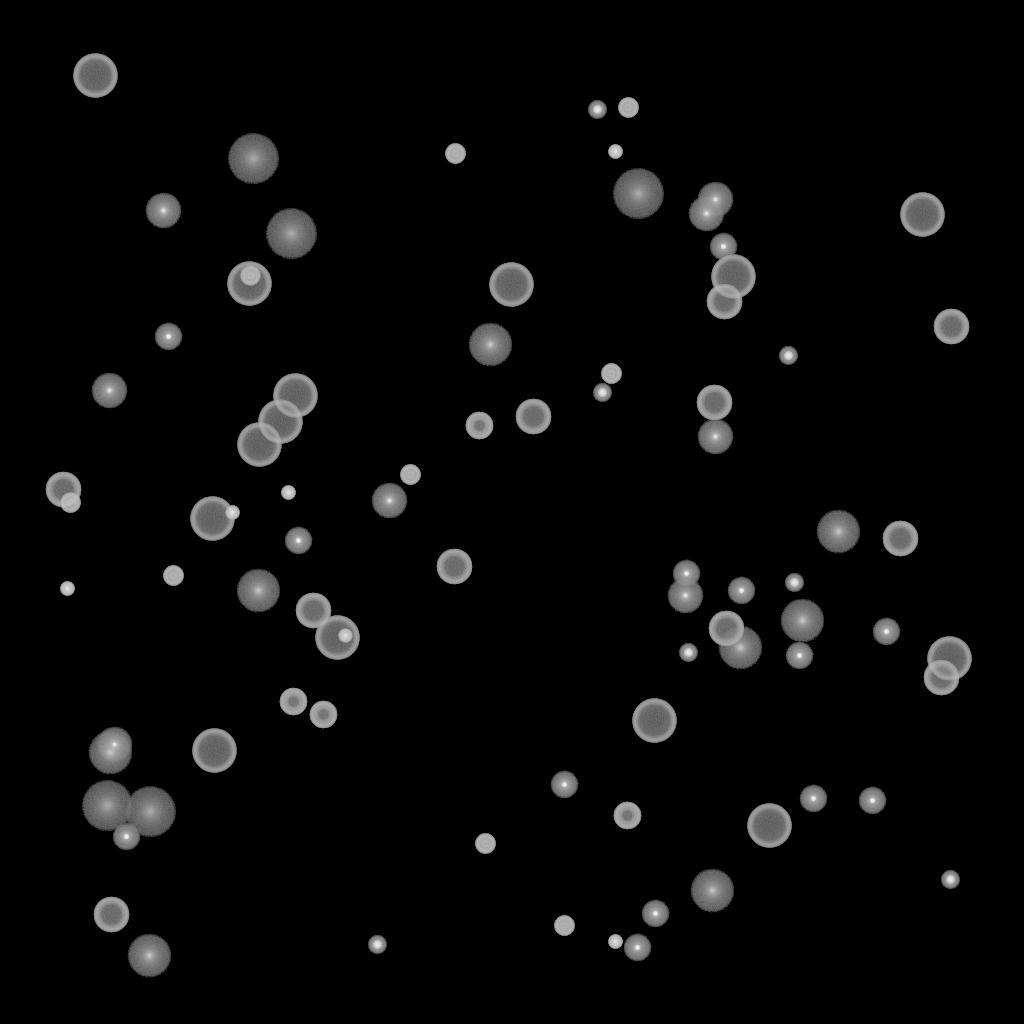depth:-10: (799, 785, 827, 813), (709, 233, 737, 261), (112, 823, 140, 851), (154, 323, 182, 351), (641, 900, 669, 928), (550, 771, 578, 799), (623, 934, 651, 962), (785, 642, 813, 670), (284, 527, 312, 555), (872, 618, 900, 646), (727, 577, 755, 605), (672, 560, 700, 588), (858, 787, 886, 815)
depth:-20: (941, 871, 959, 889), (368, 936, 386, 954), (593, 384, 611, 402), (785, 574, 803, 592), (779, 347, 797, 365), (679, 644, 697, 662), (588, 101, 606, 119)
depth:-30: (608, 145, 622, 159), (281, 486, 295, 500), (225, 506, 239, 520), (338, 629, 352, 643), (608, 935, 622, 949), (60, 582, 74, 596)
depth:-40: (240, 266, 260, 286), (475, 834, 495, 854), (554, 916, 574, 936), (618, 98, 638, 118), (60, 493, 80, 513), (163, 566, 183, 586), (400, 465, 420, 485), (445, 144, 465, 164), (601, 364, 621, 384)
depth:-50: (279, 688, 307, 716), (613, 802, 641, 830), (465, 412, 493, 440), (309, 701, 337, 729)
depth:-60: (93, 897, 129, 933), (933, 309, 969, 345), (882, 521, 918, 557), (696, 385, 732, 421), (708, 611, 744, 647), (45, 472, 81, 508), (706, 284, 742, 320), (436, 549, 472, 585), (515, 399, 551, 435), (923, 660, 959, 696), (295, 593, 331, 629)
depth:-70: (927, 637, 971, 681), (237, 423, 281, 467), (315, 616, 359, 660), (258, 400, 302, 444), (632, 699, 676, 743), (747, 804, 791, 848), (273, 374, 317, 418), (73, 54, 117, 98), (711, 255, 755, 299), (190, 497, 234, 541), (489, 263, 533, 307), (900, 193, 944, 237), (227, 262, 271, 306), (192, 729, 236, 773)
depth:0: (697, 419, 733, 455), (697, 182, 733, 218), (371, 483, 407, 519), (688, 196, 724, 232), (667, 578, 703, 614), (145, 193, 181, 229), (96, 727, 132, 763), (91, 373, 127, 409)
depth:10: (690, 869, 734, 913), (88, 731, 132, 775), (236, 569, 280, 613), (127, 934, 171, 978), (468, 323, 512, 367), (816, 510, 860, 554), (780, 599, 824, 643), (718, 626, 762, 670)
depth:20: (612, 169, 664, 219), (81, 781, 133, 831), (265, 209, 317, 259), (124, 787, 176, 837), (227, 134, 279, 184)
